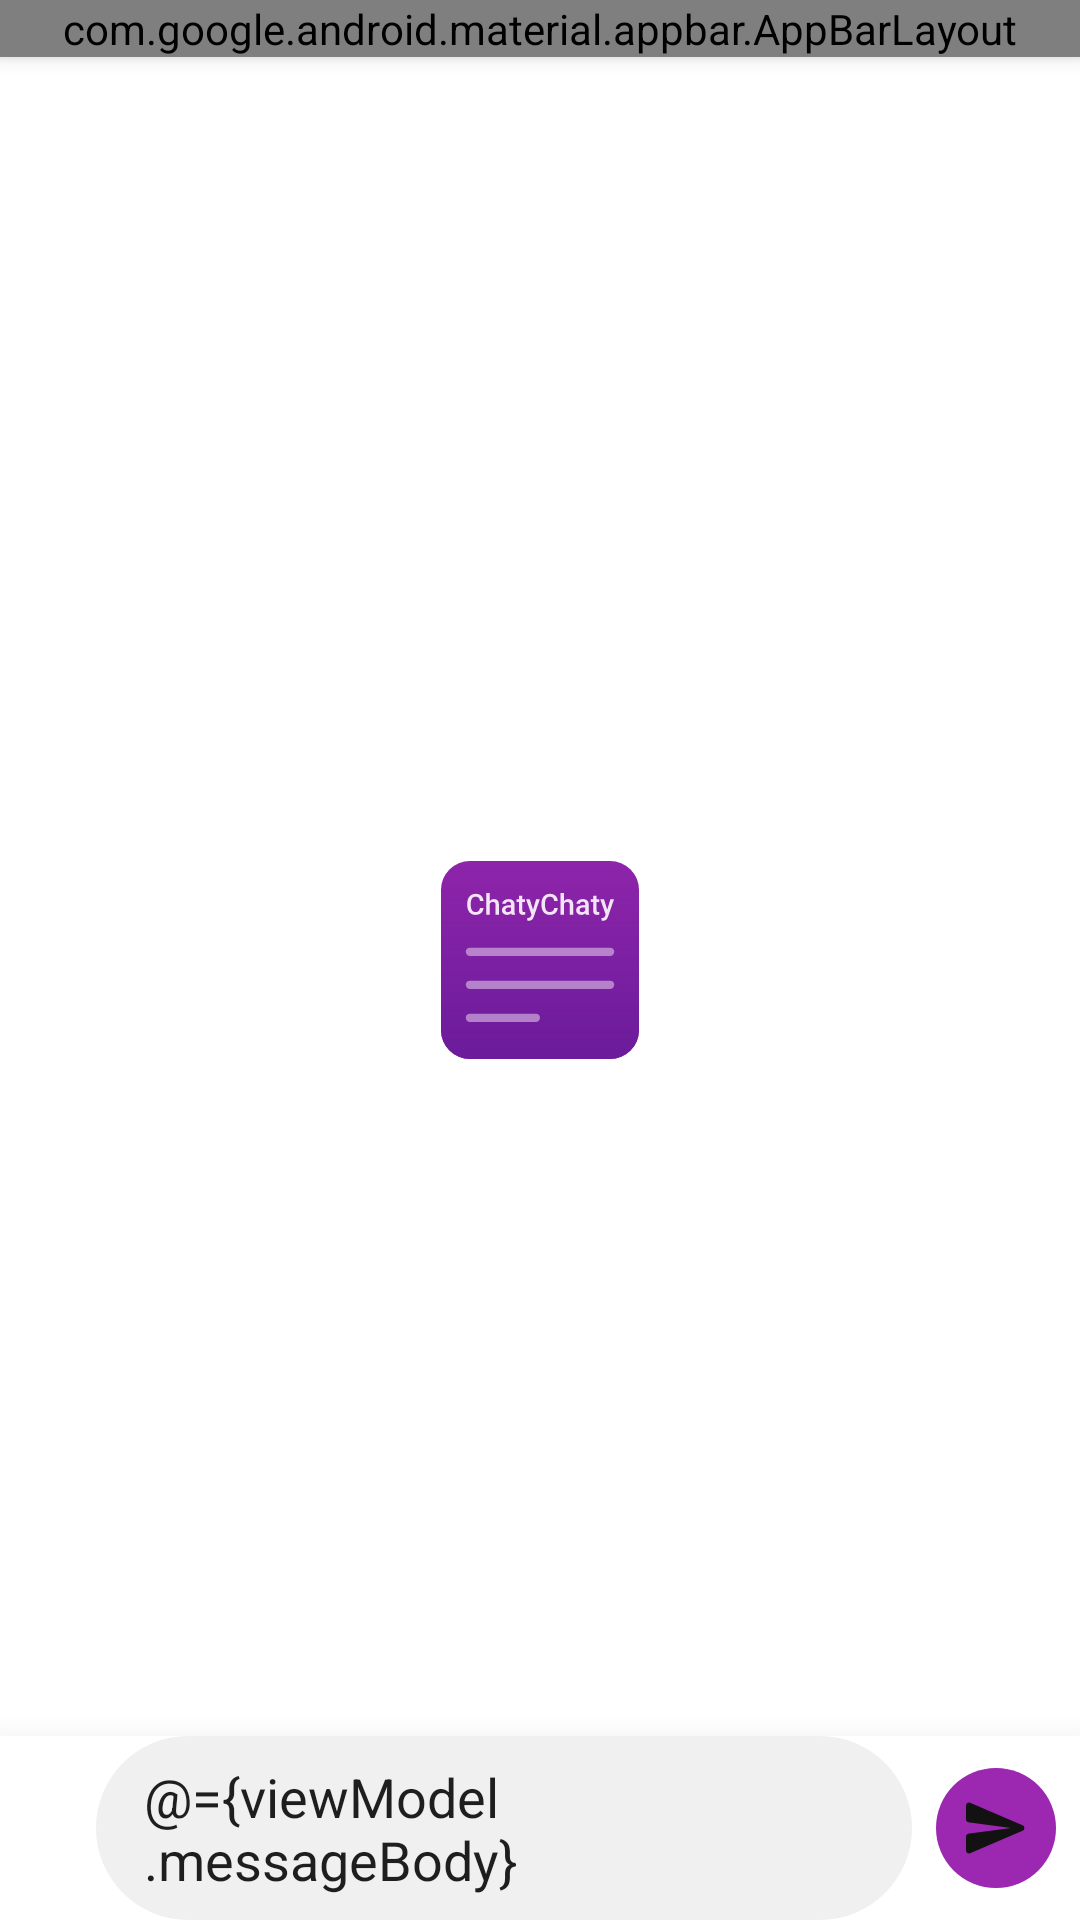

Locate icon controls on the screen. Image size 1080x1920, boxes as detection(x1, y1, x2, y2).
Send: detection(936, 1768, 1056, 1888)
